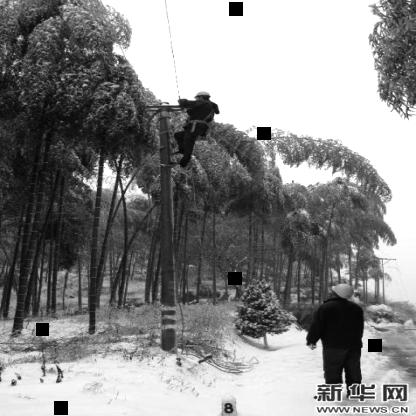helmet: (323, 280, 363, 304), (192, 90, 214, 106)
